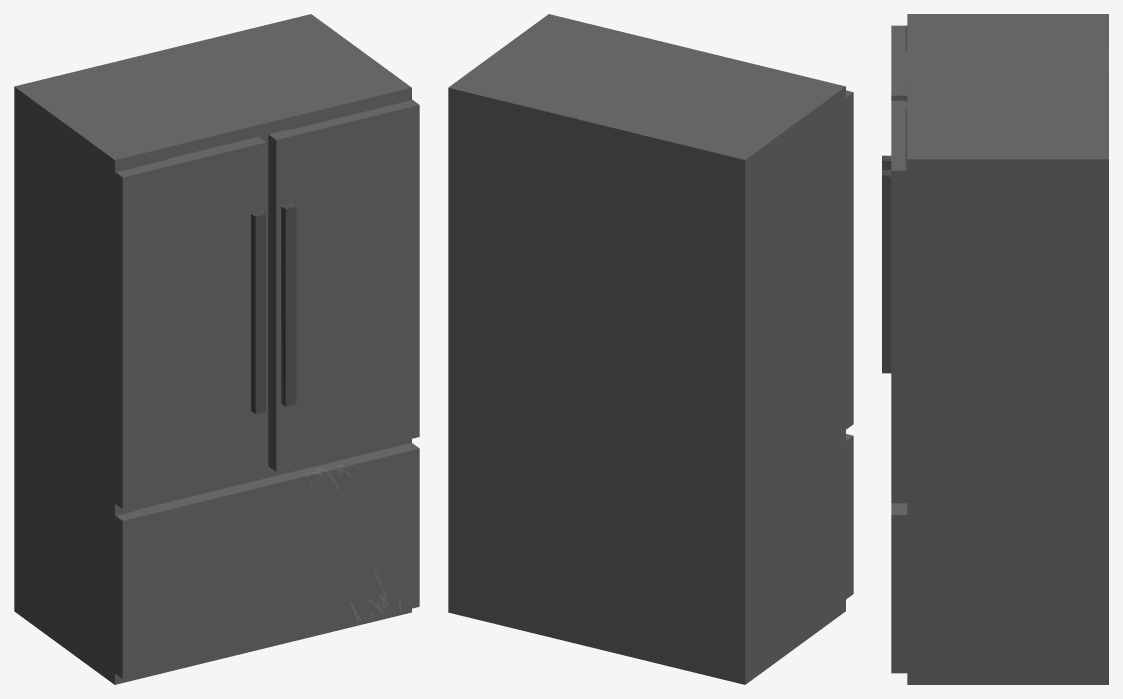
File: fridge.fbx
3 views of the same model, side by side, from view 1: azimuth 30°, elevation 25°; view 2: azimuth 150°, elevation 25°; view 3: azimuth 270°, elevation 25° (orthographic).
Visible parts, largest first — view 1: Fridge; view 2: Fridge; view 3: Fridge.
Boxes of the visible parts, x1,y1,x2,y2 form: Fridge: [14, 14, 419, 684]; Fridge: [448, 14, 853, 684]; Fridge: [882, 14, 1108, 684].
Bounding box in the file's own units: 345 × 583 × 228.
